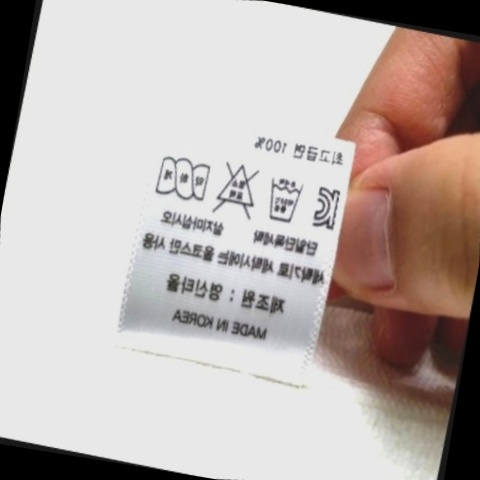hand_wash: (250, 167, 313, 235)
non_chlorine_bleach: (200, 148, 273, 230)
wring: (147, 146, 221, 213)
